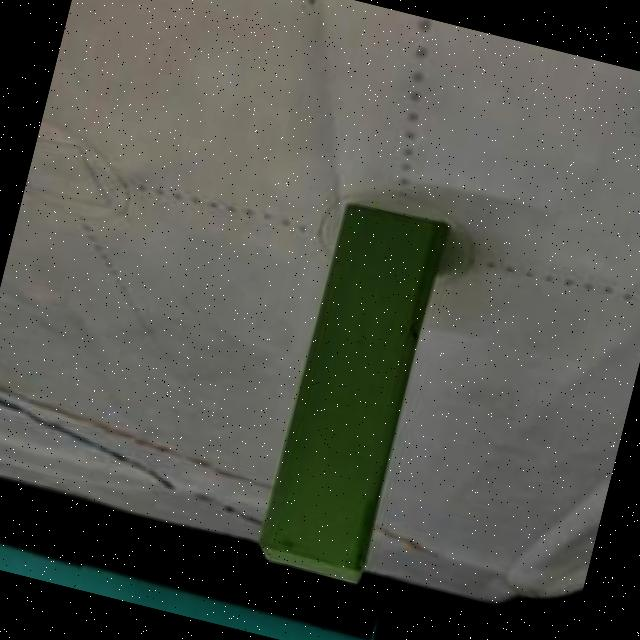greenbox: (254, 195, 452, 586)
